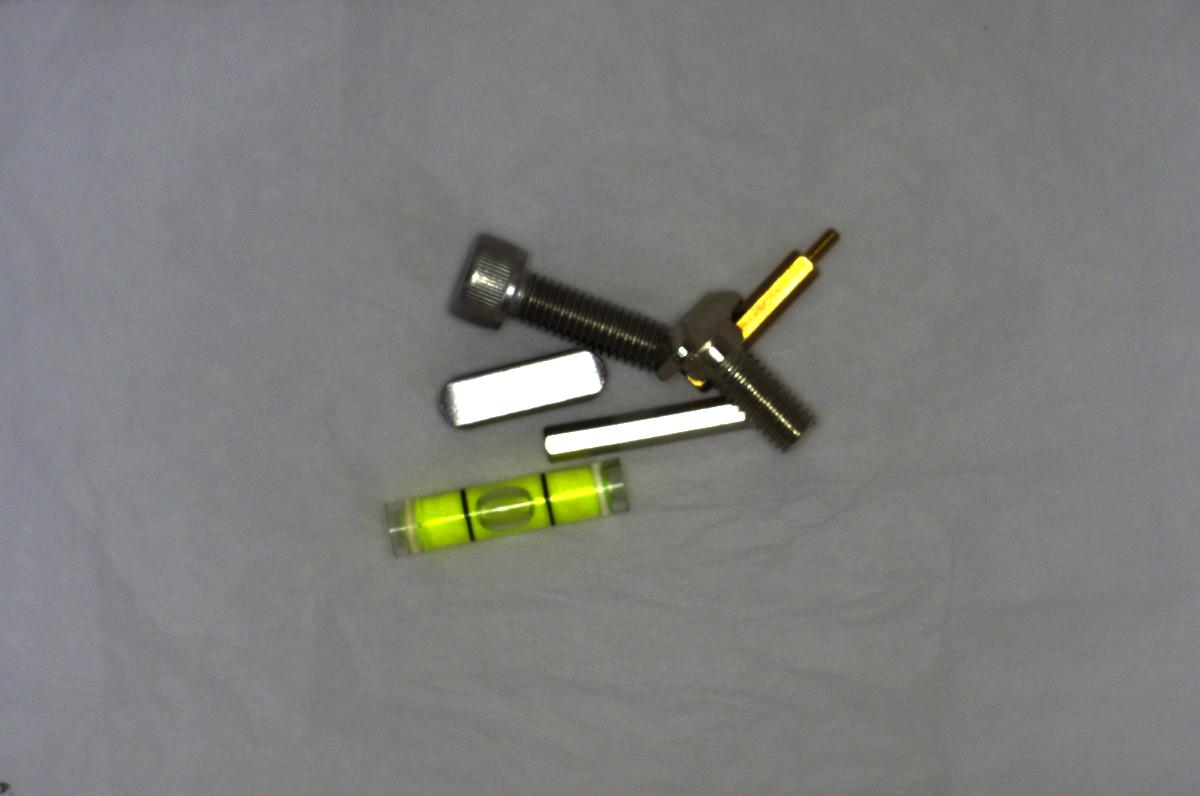Double hexagonal column: (538, 404, 743, 467)
Hexagon pillar: (680, 219, 841, 392)
Hexagon screw: (429, 224, 679, 382)
Horizontal bubble: (379, 451, 644, 559)
Keybar: (425, 337, 623, 445)
T-shaped screw: (667, 283, 820, 454)
